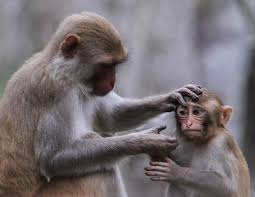monkey: (3, 2, 140, 194), (151, 53, 249, 191)
